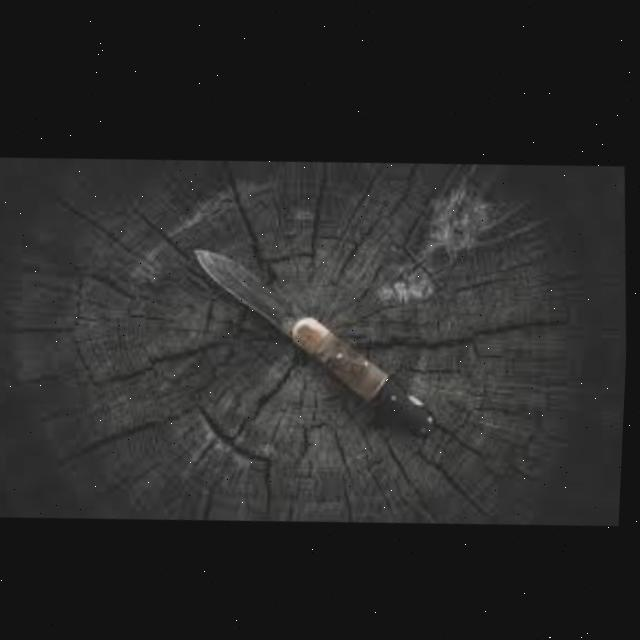Knife: (189, 230, 449, 443)
